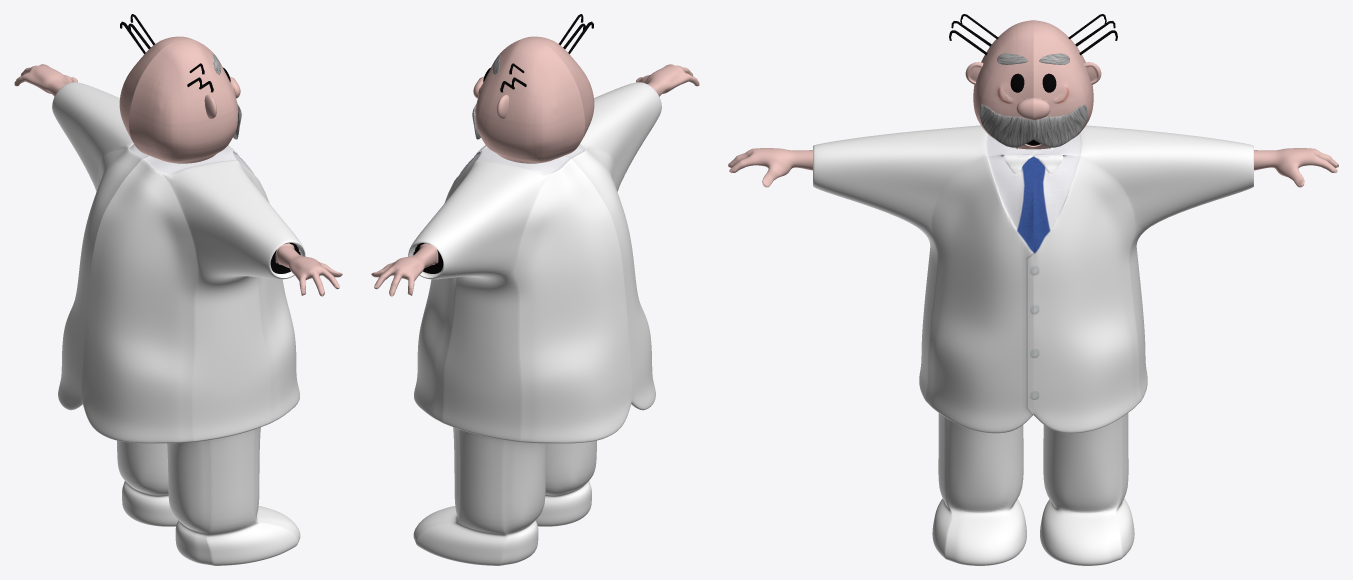
The model's file is doctor_simi.glb.
3 renders of one model, left to right at view 1: azimuth 30°, elevation 25°; view 2: azimuth 150°, elevation 25°; view 3: azimuth 270°, elevation 25°, orthographic.
Parts seen in each view (by area): view 1: polySurface6; view 2: polySurface6; view 3: polySurface6, polySurface5.
Part boxes in pixels (bbox=[...]): polySurface6: bbox=[14, 14, 342, 565]; polySurface6: bbox=[371, 14, 699, 565]; polySurface6: bbox=[728, 14, 1338, 565]; polySurface5: bbox=[979, 104, 1087, 147].
Bounding box in the file's own units: 4.13 × 9.96 × 10.93.
3 materials, 3 textured.
